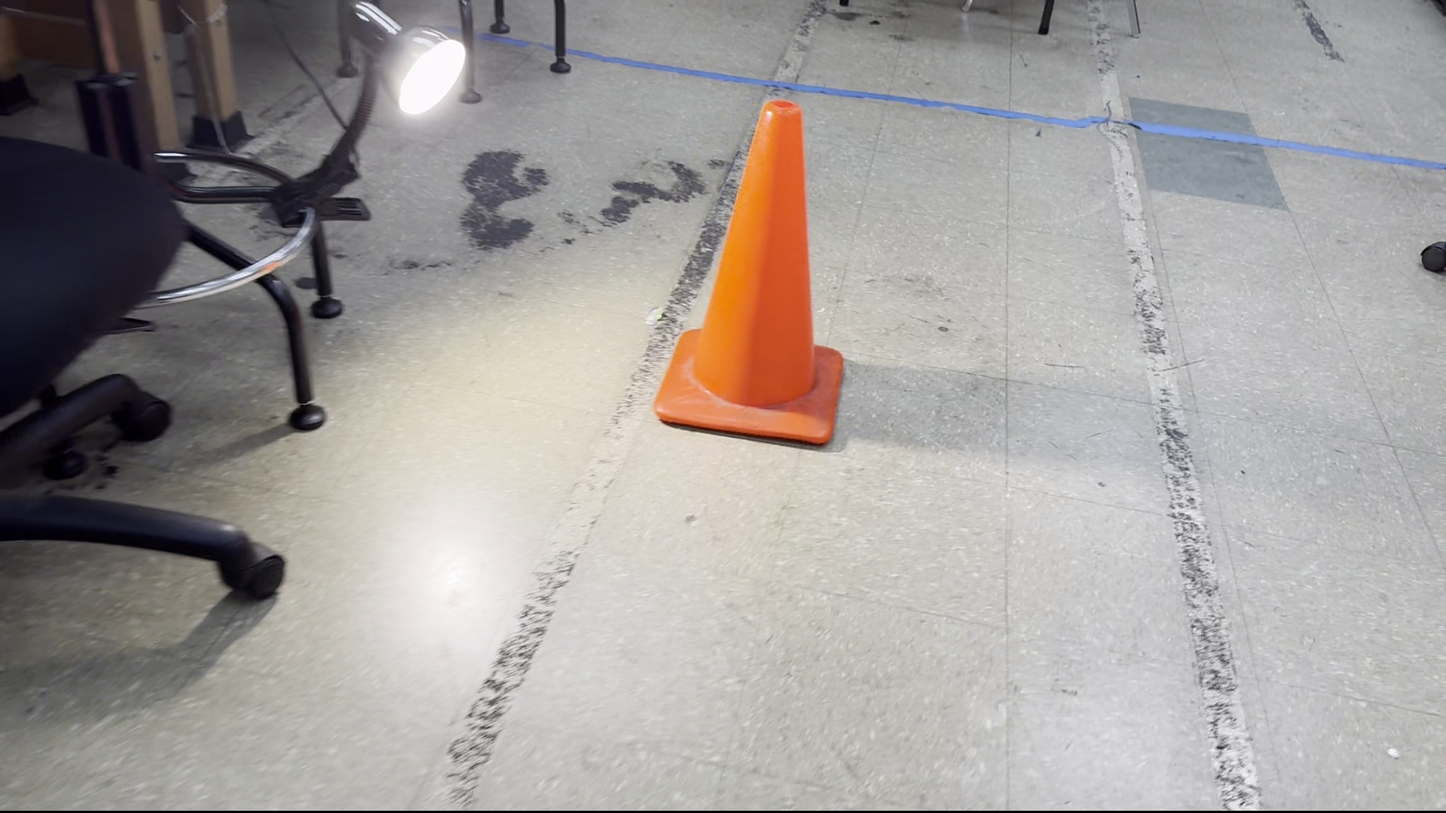traffic_cone: (652, 98, 844, 446)
